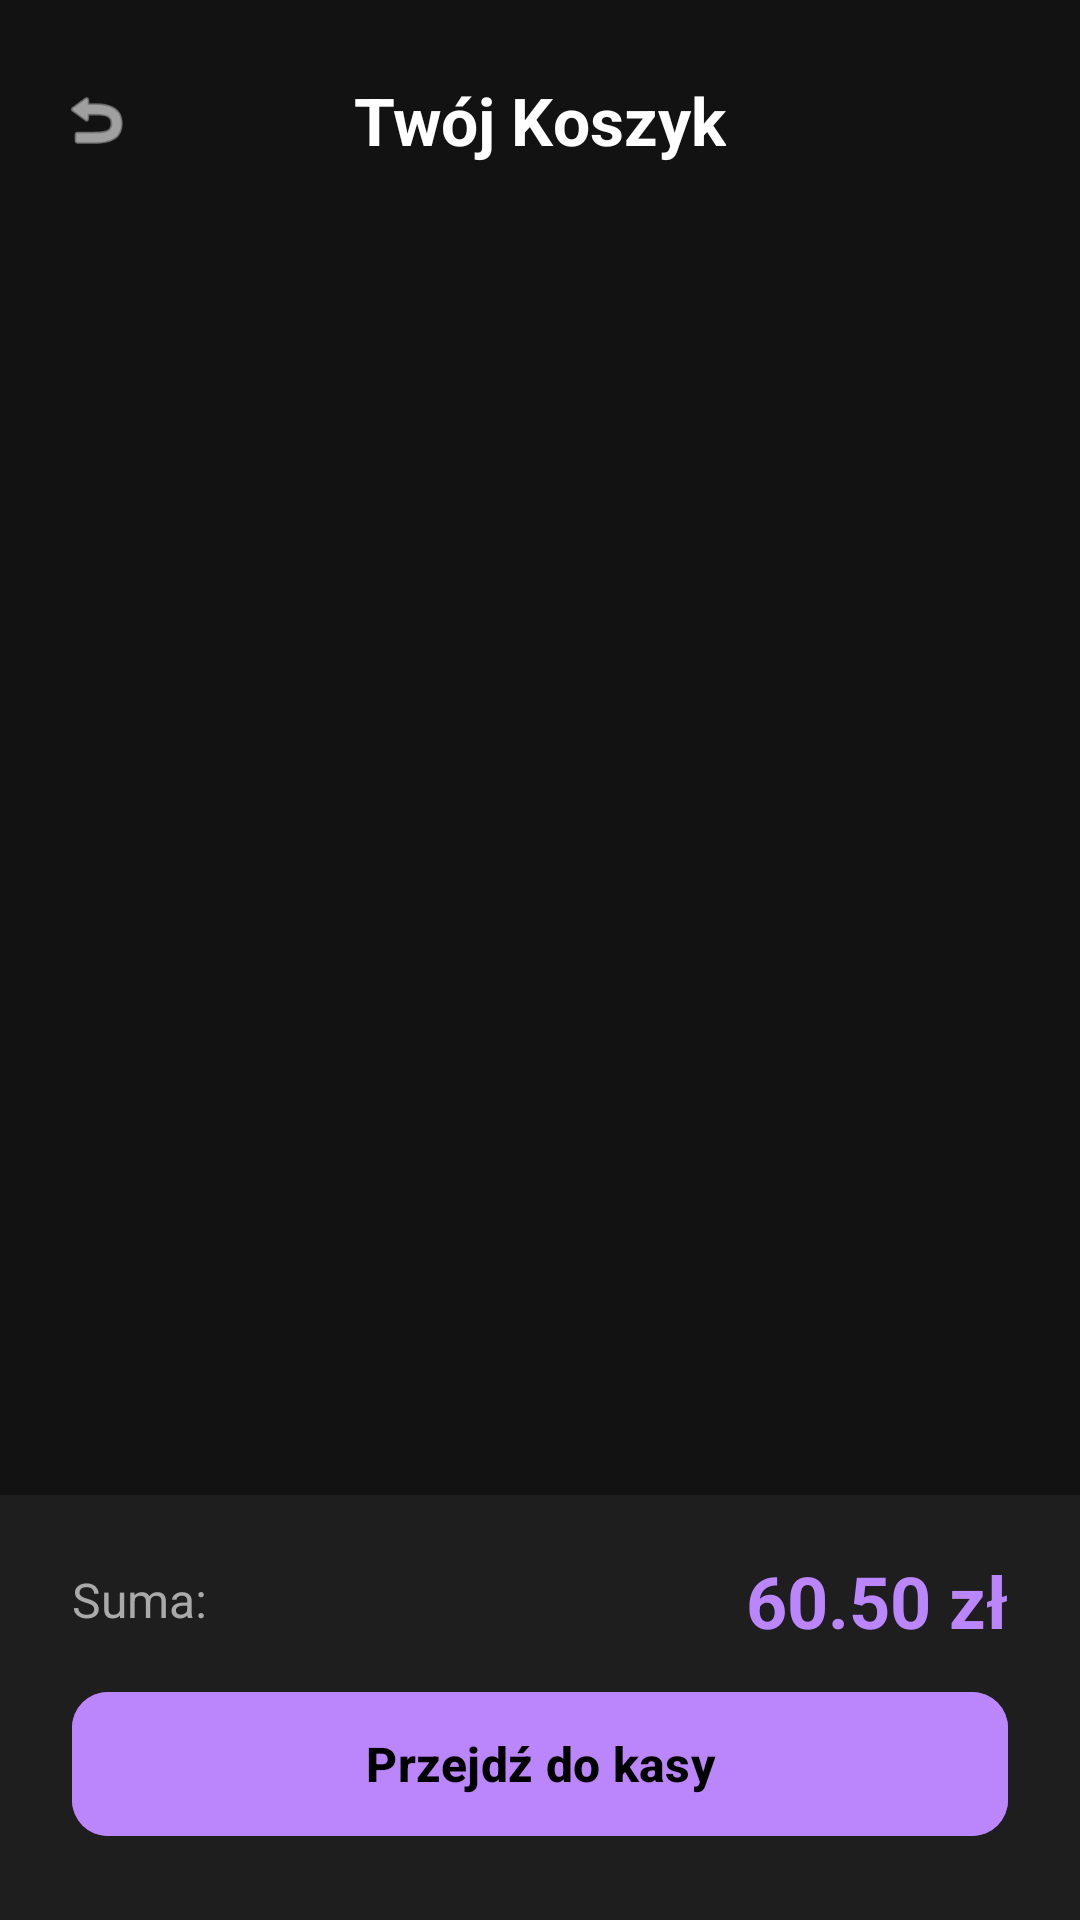

Icon bounding boxes for this 1080 x 1920 phone screenshot, format (x1, y1, x2, y2):
revert: (71, 97, 123, 144)
